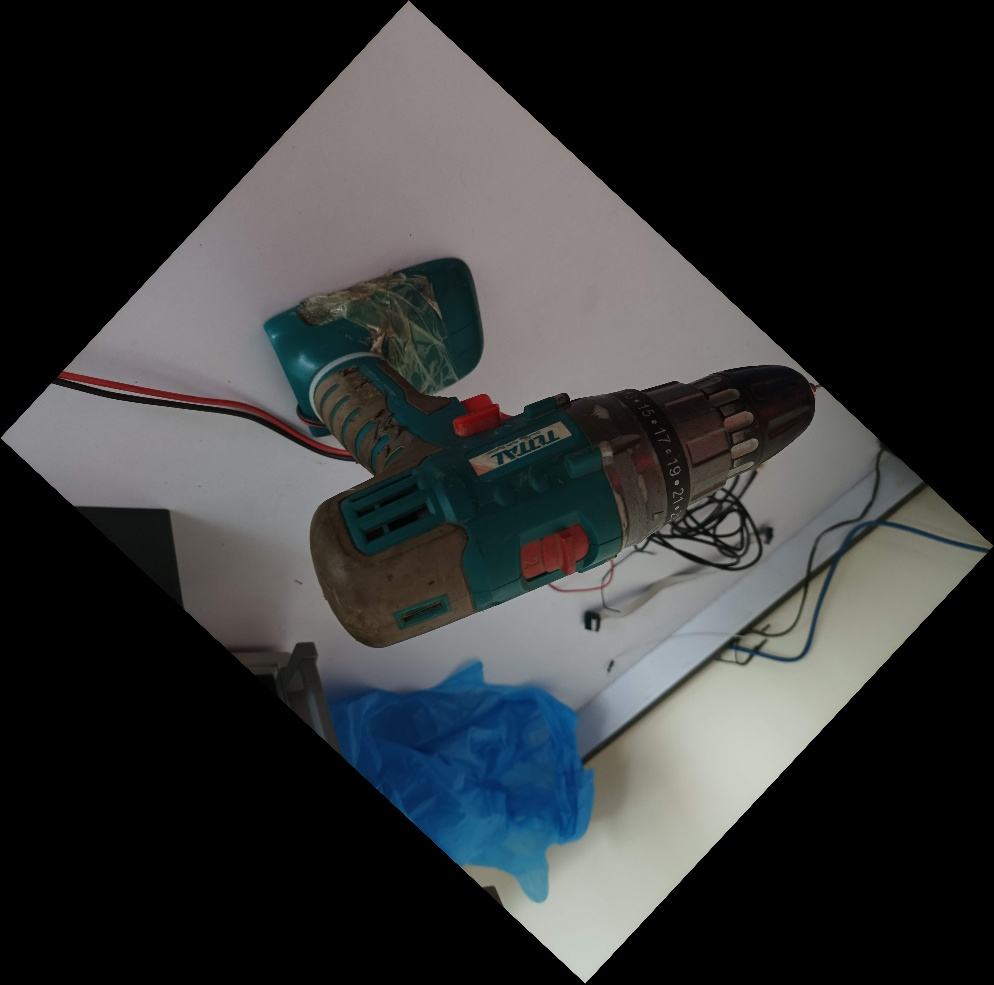driller: (260, 251, 826, 653)
